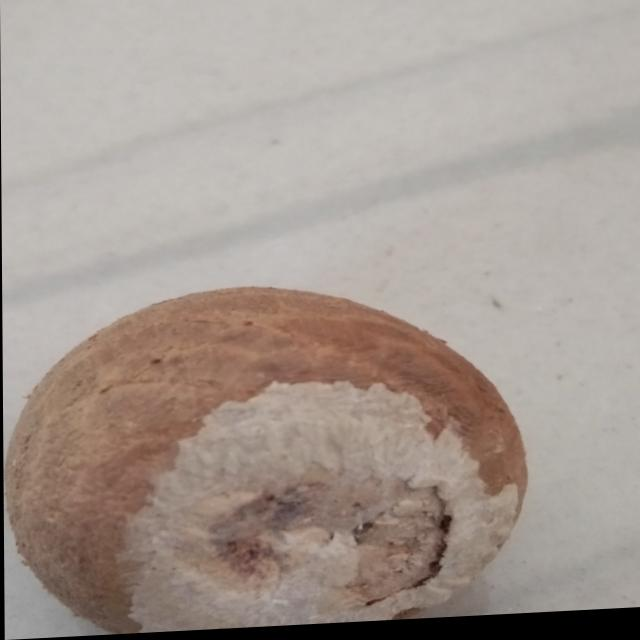good: (2, 259, 551, 640)
